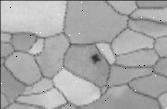good_void: (90, 53, 100, 64)
